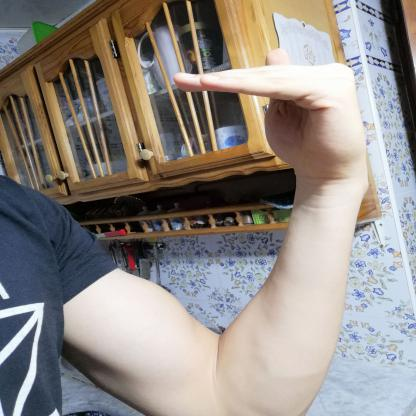KHAA: (155, 38, 380, 190)
